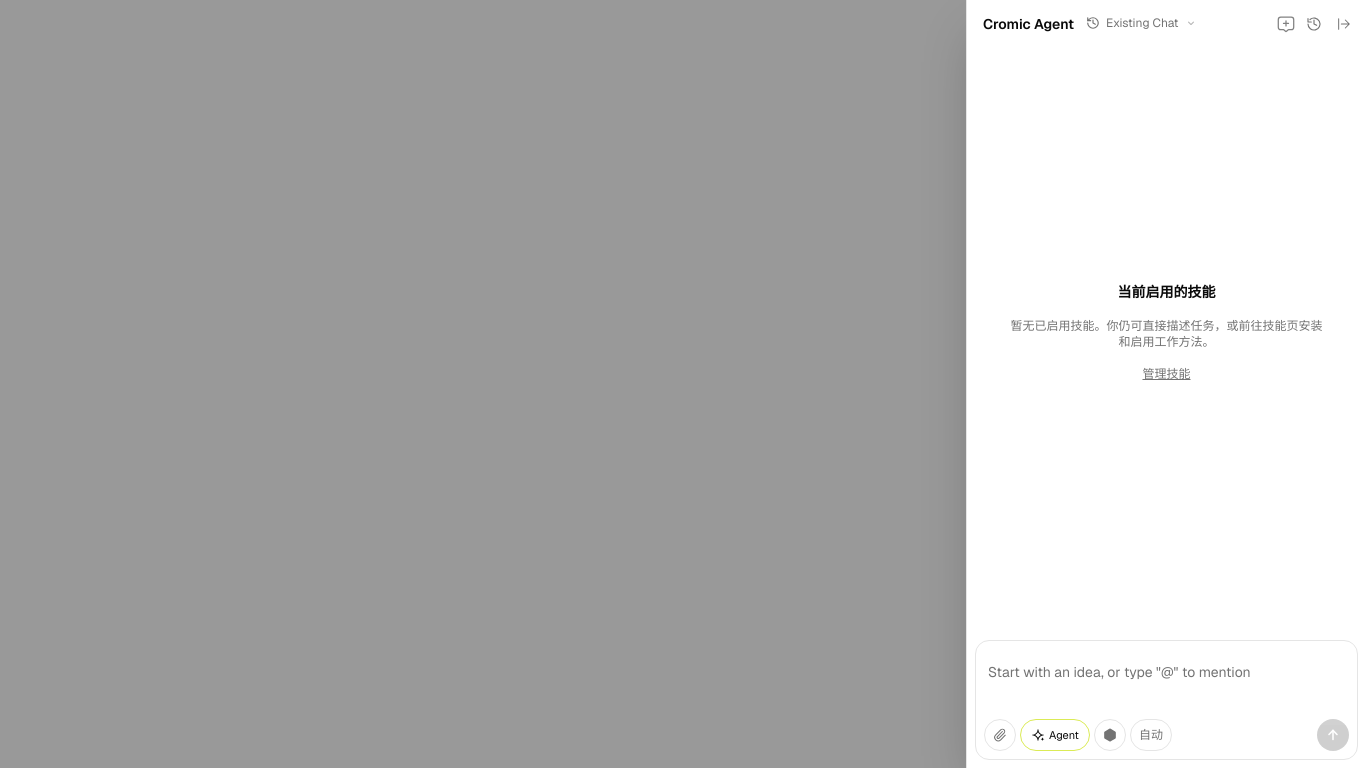
it: ChatSidebar › opens run history for the active session
This screenshot has width=1366, height=768.
What coordinates should you click on to do the following:
click the button named "打开运行历史"
I would click on:
 (1314, 24)
Its box is [1300,10,1328,38].
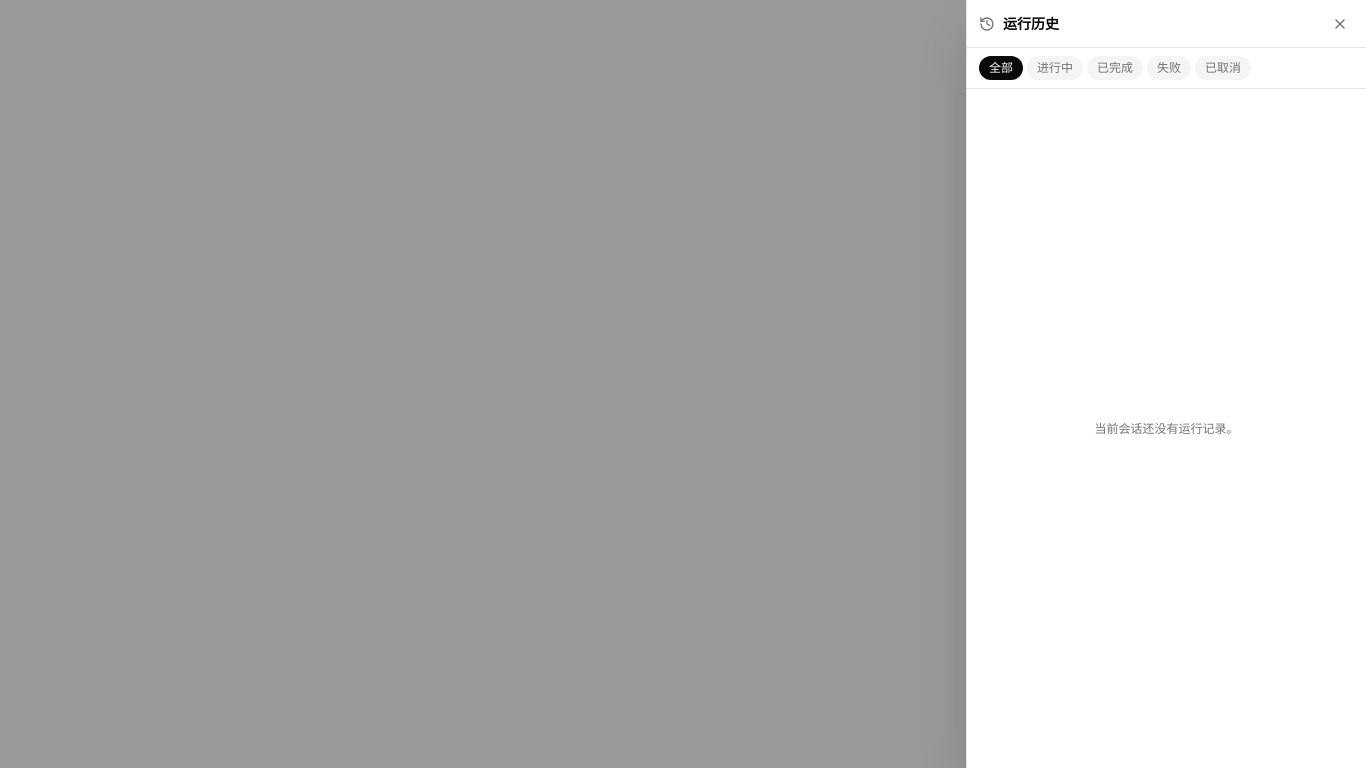
Expected: the element "运行历史" is shown, [967,0,1365,767]
